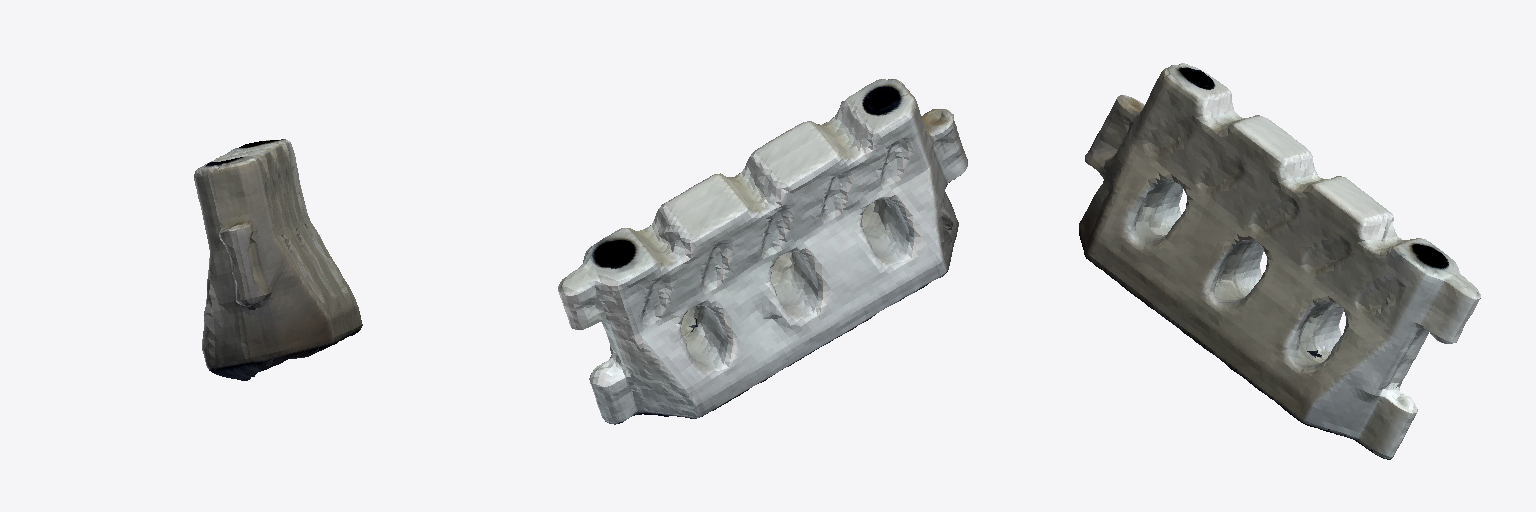
The picture shows the model from 3 angles: view 1: azimuth 30°, elevation 25°; view 2: azimuth 150°, elevation 25°; view 3: azimuth 270°, elevation 25°; orthographic projection.
Parts seen in each view (by area): view 1: 3DModel; view 2: 3DModel; view 3: 3DModel.
Part boxes in pixels (x1,y1,x2,y2): 3DModel: (194,139,362,380); 3DModel: (558,79,967,424); 3DModel: (1079,63,1480,459).
Bounding box in the file's own units: 0.602 × 0.7417 × 0.8847.
1 materials, 1 textured.